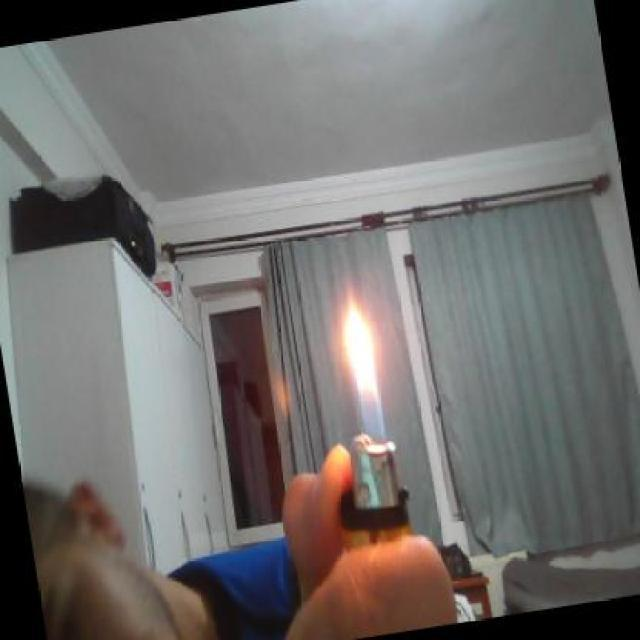Fire: (323, 280, 416, 449)
